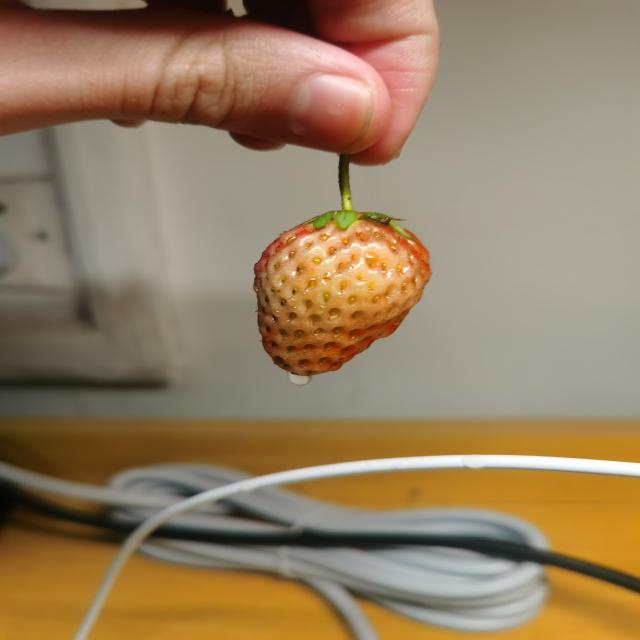stem: (338, 161, 355, 214)
strawberry: (253, 211, 432, 376)
